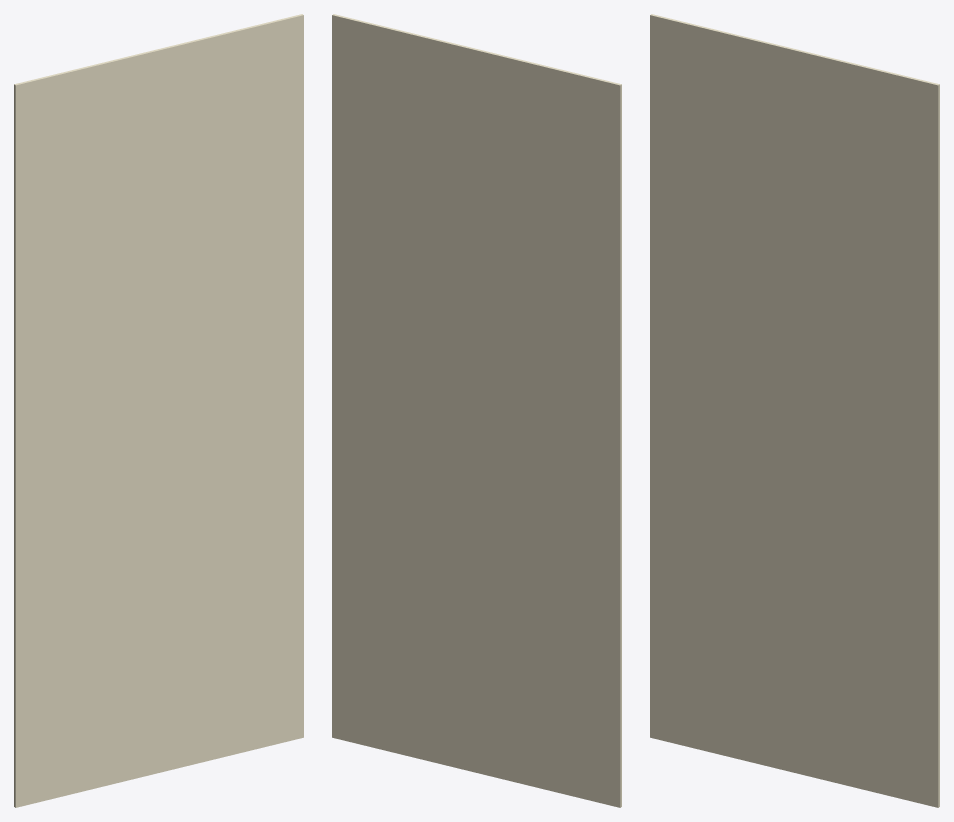
Rendered from original-4.obj.
3 renders of one model, left to right at view 1: azimuth 30°, elevation 25°; view 2: azimuth 150°, elevation 25°; view 3: azimuth 330°, elevation 25°, orthographic.
Visible parts, largest first — view 1: Group4/mesh7/mesh7-geometry#mesh7-geometry; view 2: Group4/mesh7/mesh7-geometry#mesh7-geometry; view 3: Group4/mesh7/mesh7-geometry#mesh7-geometry.
Part boxes in pixels (<box>): Group4/mesh7/mesh7-geometry#mesh7-geometry: <box>14,14,303,807</box>; Group4/mesh7/mesh7-geometry#mesh7-geometry: <box>332,14,621,807</box>; Group4/mesh7/mesh7-geometry#mesh7-geometry: <box>650,14,939,807</box>.
Bounding box in the file's own units: 0.7285 × 1.75 × 0.00686.
